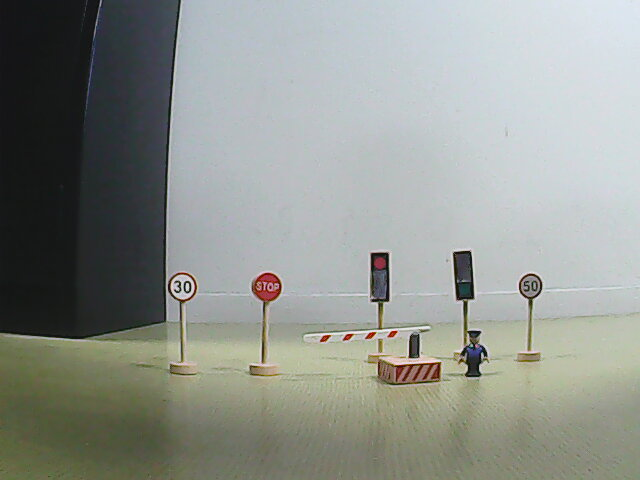barrier: (300, 324, 445, 388)
green_traffic_sign: (452, 248, 476, 303)
person: (455, 328, 491, 380)
red_traffic_sign: (368, 250, 391, 304)
sign_30: (167, 271, 198, 303)
sign_50: (517, 273, 546, 301)
stop_sign: (250, 272, 285, 304)
